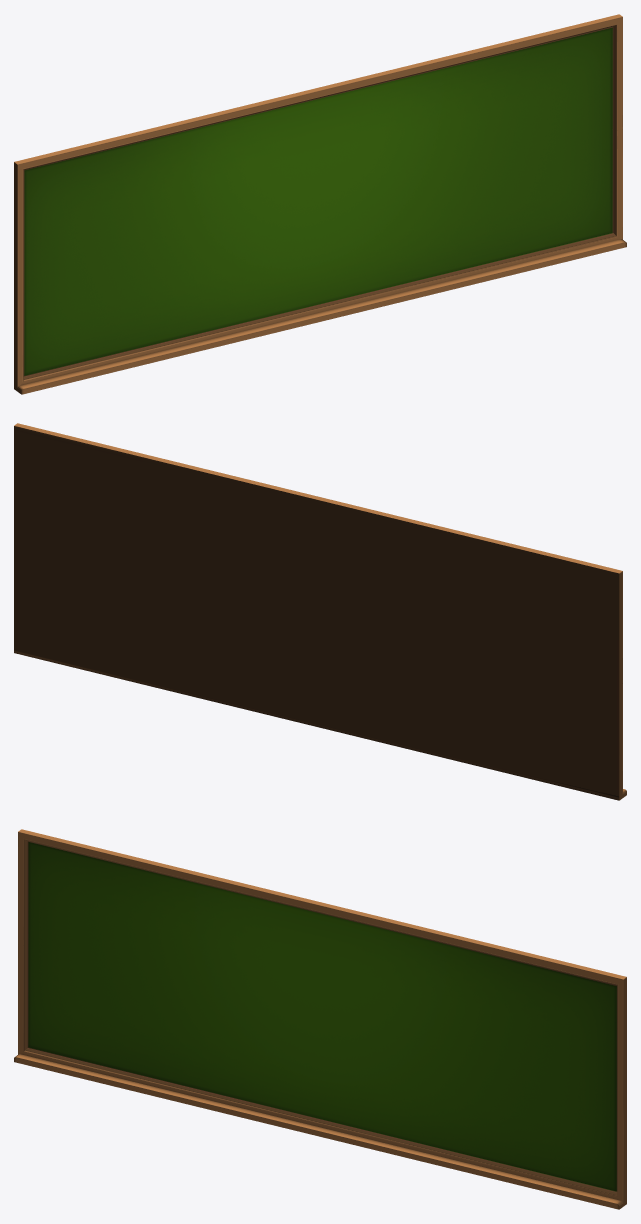
File: AnimeChibi-SchoolPack2-Blackboard.fbx
The picture shows the model from 3 angles, top to bottom: view 1: azimuth 30°, elevation 25°; view 2: azimuth 150°, elevation 25°; view 3: azimuth 330°, elevation 25°; orthographic projection.
Visible parts, largest first — view 1: blackboard; view 2: blackboard; view 3: blackboard.
Boxes of the visible parts, left/top/right/bottom form: blackboard: left=14, top=14, right=626, bottom=394; blackboard: left=14, top=423, right=626, bottom=800; blackboard: left=14, top=829, right=626, bottom=1209.
Bounding box in the file's own units: 52.57 × 18.86 × 1.15.
